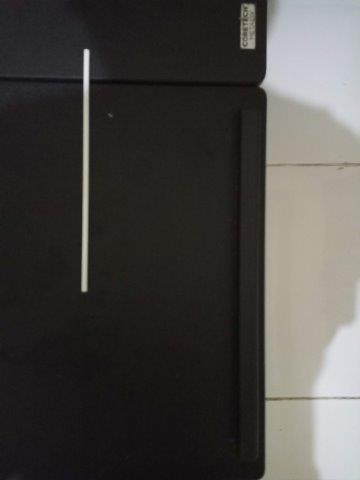sedotan: (81, 48, 90, 292)
